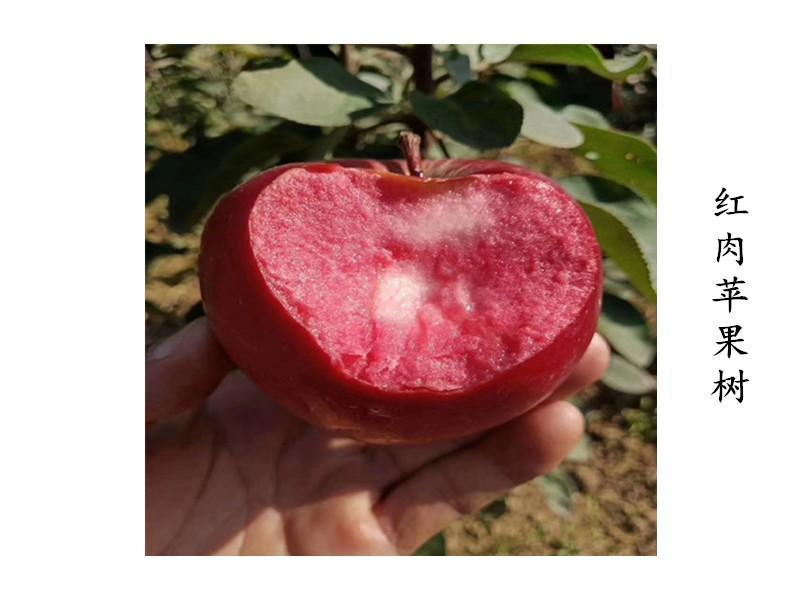apple: (194, 153, 604, 439)
